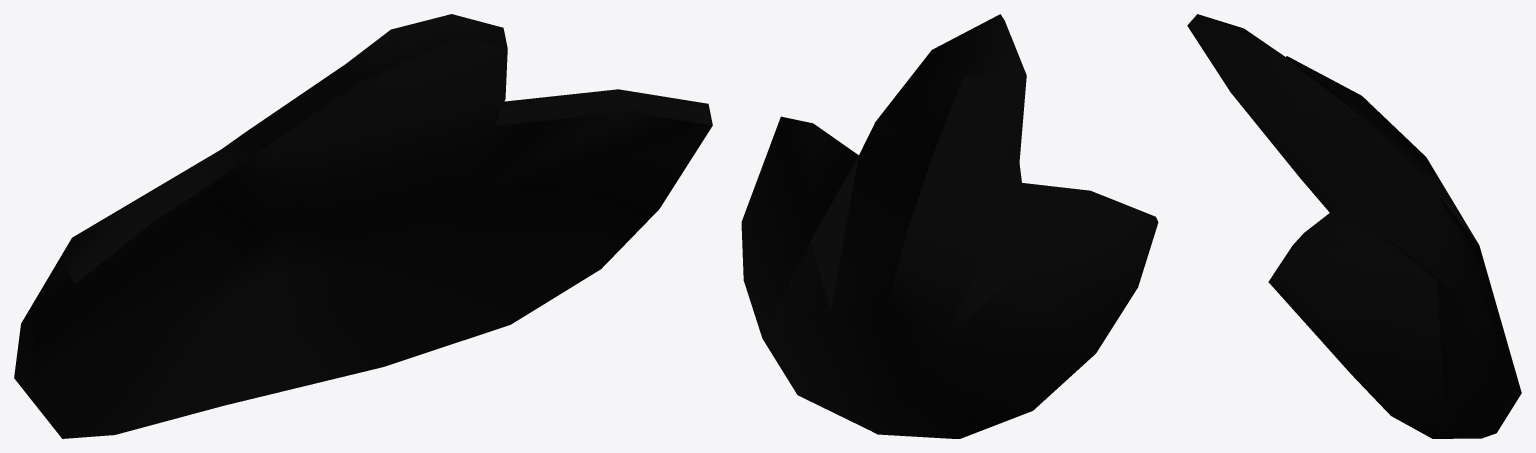
File: HERB2.fbx
3 renders of one model, left to right at view 1: azimuth 30°, elevation 25°; view 2: azimuth 150°, elevation 25°; view 3: azimuth 270°, elevation 25°, orthographic. The views are drawn at different scales.
Visible parts, largest first — view 1: HERB2; view 2: HERB2; view 3: HERB2.
Boxes of the visible parts, x1,y1,x2,y2 form: HERB2: (14, 14, 712, 438); HERB2: (741, 14, 1158, 438); HERB2: (1187, 14, 1521, 438).
Bounding box in the file's own units: 5002 × 4050 × 3137.
Materials: 2 (2 with a texture image).
